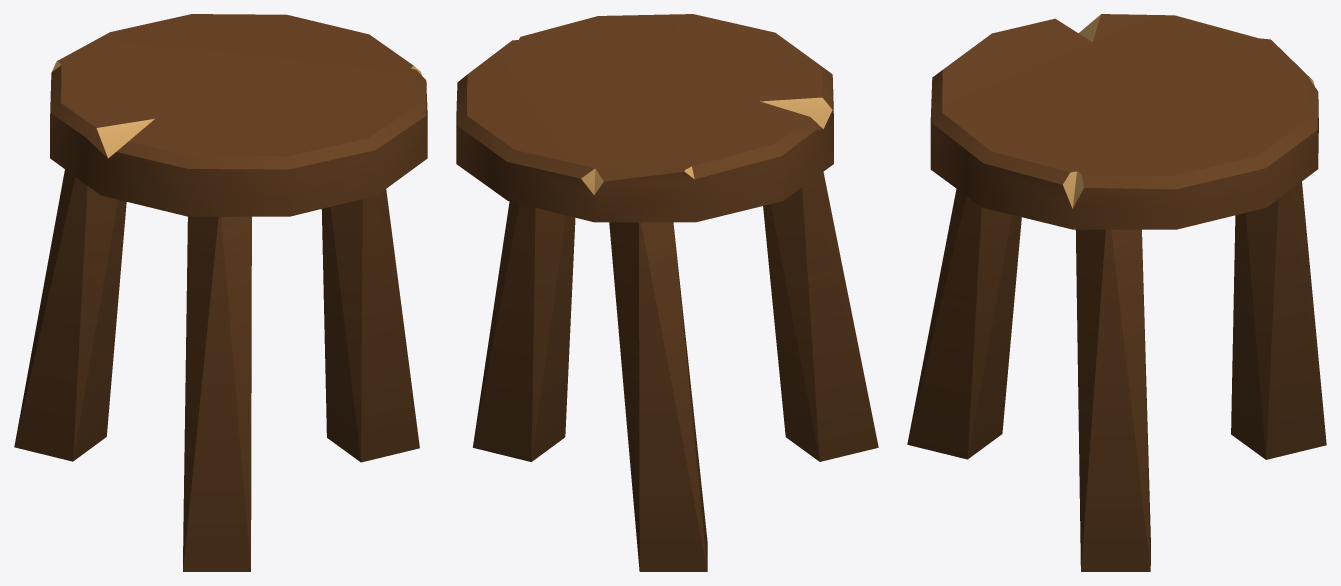
Rendered from Stool_B.glb.
The picture shows the model from 3 angles, left to right: view 1: azimuth 30°, elevation 25°; view 2: azimuth 150°, elevation 25°; view 3: azimuth 270°, elevation 25°; orthographic projection. The views are drawn at different scales.
Parts seen in each view (by area): view 1: Stool_B; view 2: Stool_B; view 3: Stool_B.
Part boxes in pixels (box(x1,y1,x2,y2)): Stool_B: box(14, 14, 427, 571); Stool_B: box(456, 14, 878, 571); Stool_B: box(907, 14, 1326, 571).
Bounding box in the file's own units: 0.3302 × 0.3767 × 0.3565.
Materials: 1 (1 with a texture image).
